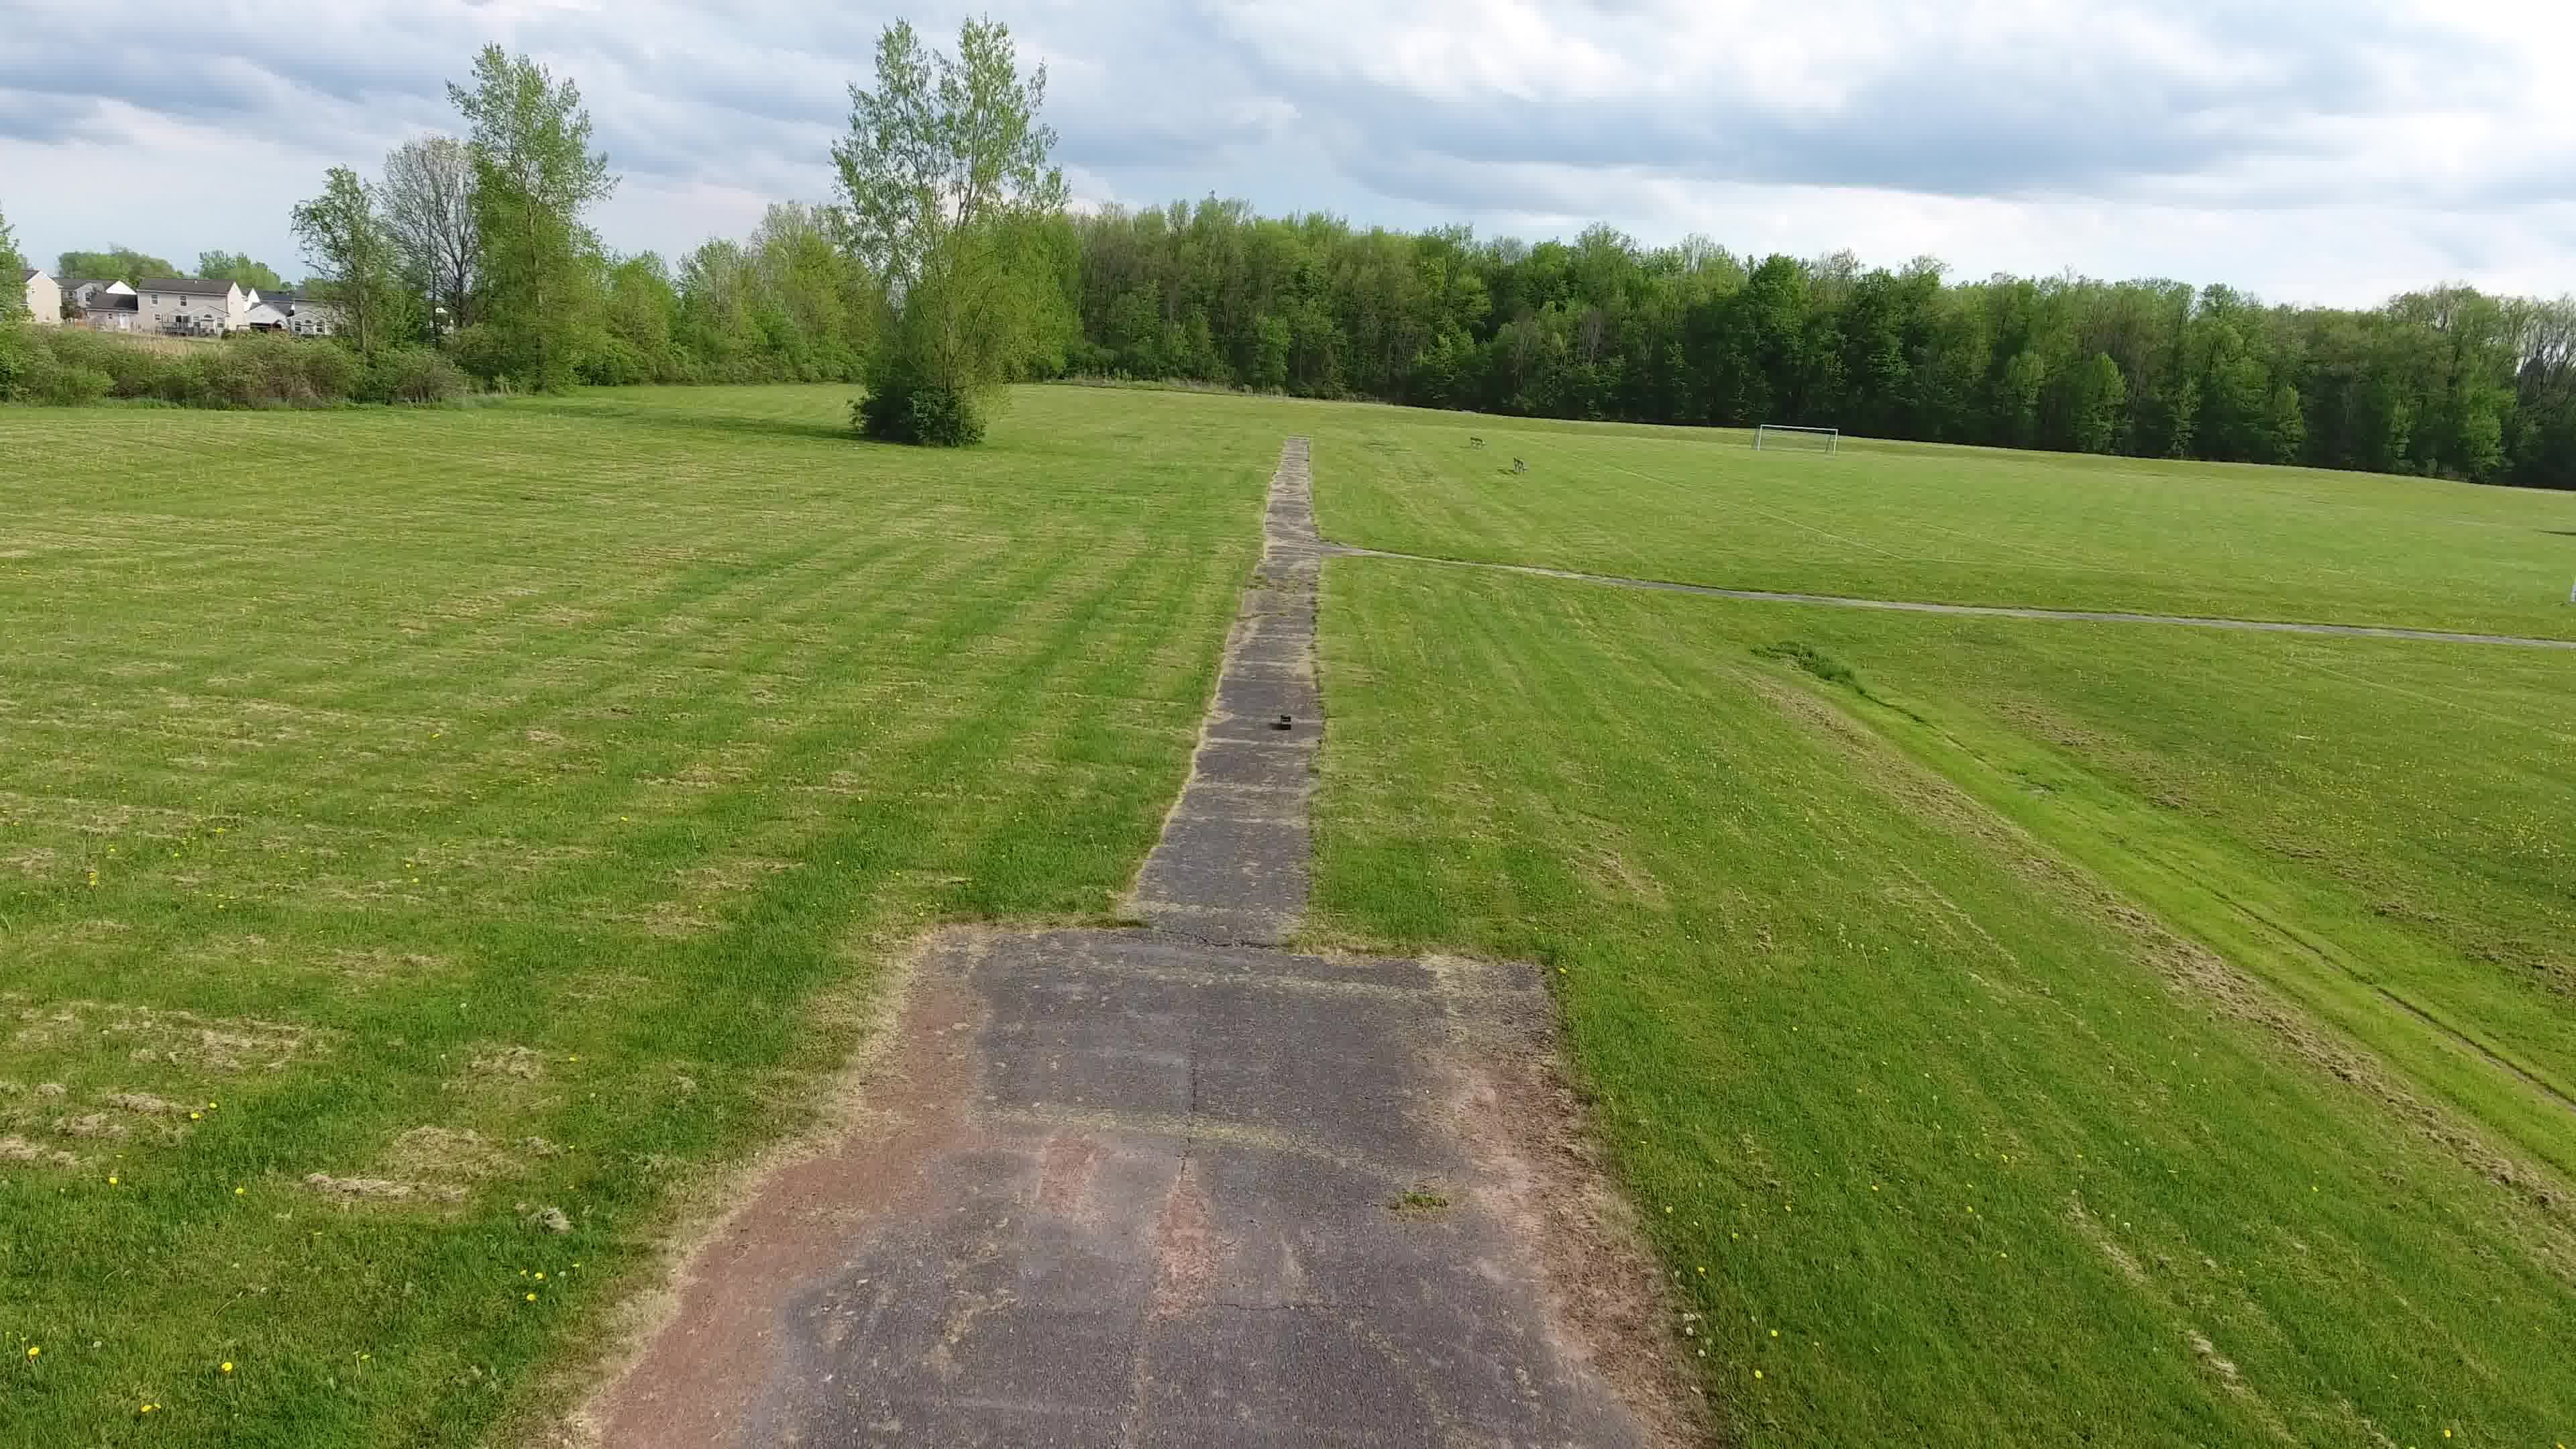transporter9_camo: (1279, 713, 1293, 731)
